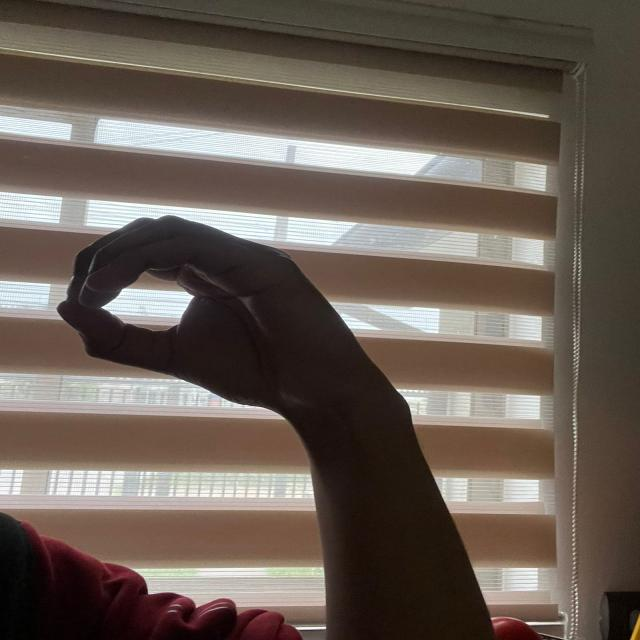O: (50, 206, 342, 424)
